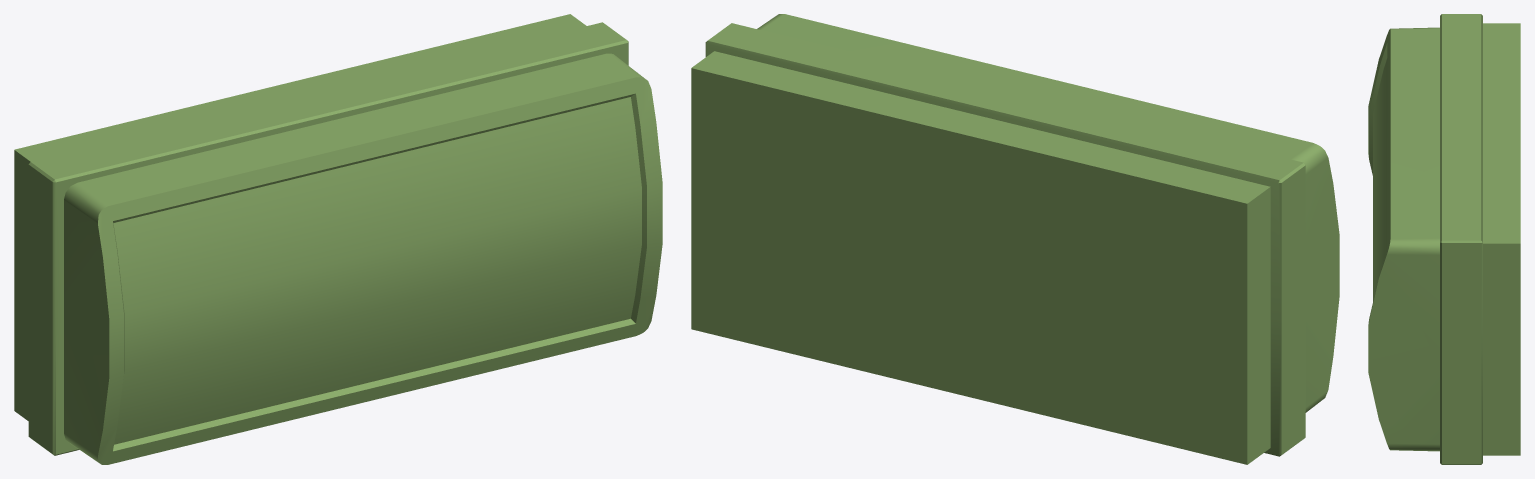
Rendered from Exit_Sign.fbx.
3 views of the same model, side by side, from view 1: azimuth 30°, elevation 25°; view 2: azimuth 150°, elevation 25°; view 3: azimuth 270°, elevation 25° (orthographic). The views are drawn at different scales.
Parts seen in each view (by area): view 1: Exit_sign; view 2: Exit_sign; view 3: Exit_sign.
Part boxes in pixels (bbox=[...]): Exit_sign: bbox=[14, 14, 662, 464]; Exit_sign: bbox=[691, 14, 1339, 464]; Exit_sign: bbox=[1368, 14, 1520, 464].
Bounding box in the file's own units: 92.89 × 42.59 × 26.19.
